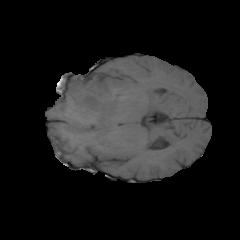glioma: (52, 72, 122, 129)
